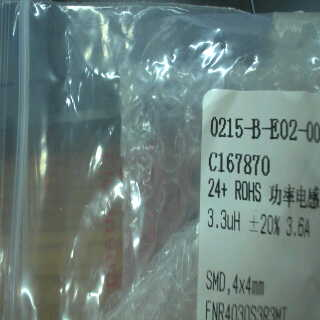3.3uH: (203, 203, 241, 237)
